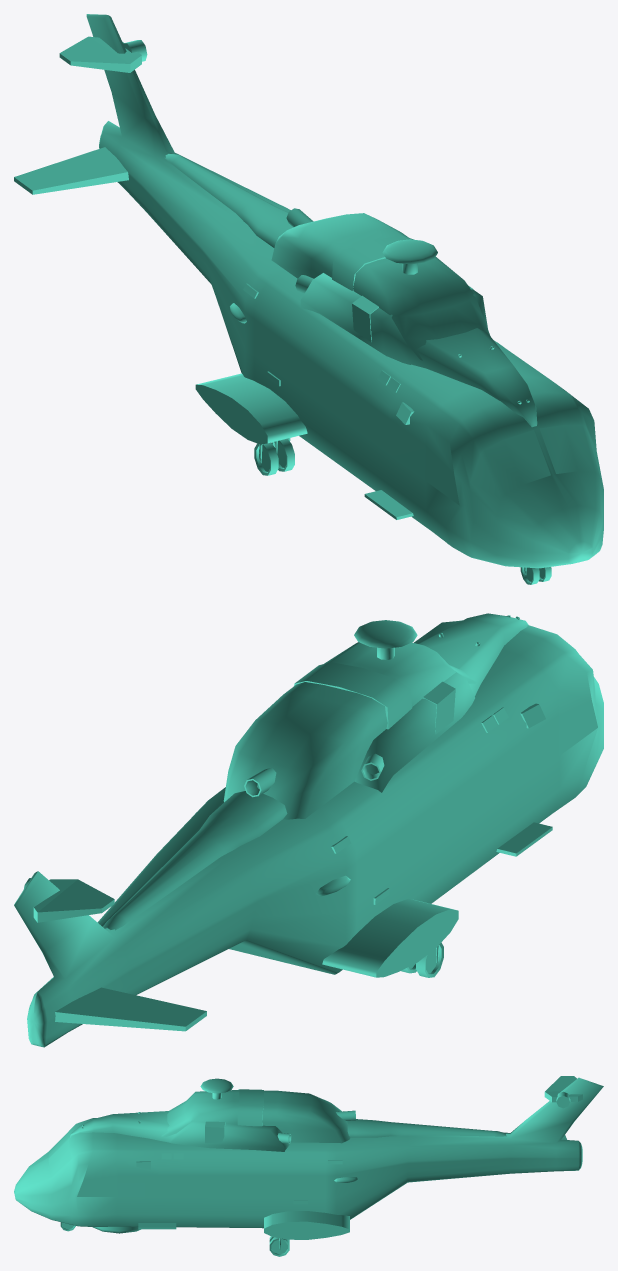
The model's file is heli.obj.
3 views of the same model, one above another, from view 1: azimuth 30°, elevation 25°; view 2: azimuth 150°, elevation 25°; view 3: azimuth 270°, elevation 25° (orthographic). The views are drawn at different scales.
Visible parts, largest first — view 1: helicoptero; view 2: helicoptero; view 3: helicoptero.
Boxes of the visible parts, x1=… form: helicoptero: x1=14, y1=14, x2=603, y2=584; helicoptero: x1=14, y1=613, x2=603, y2=1047; helicoptero: x1=14, y1=1076, x2=603, y2=1256.
Size of the model in its own units: 47.42 by 53.23 by 188.
